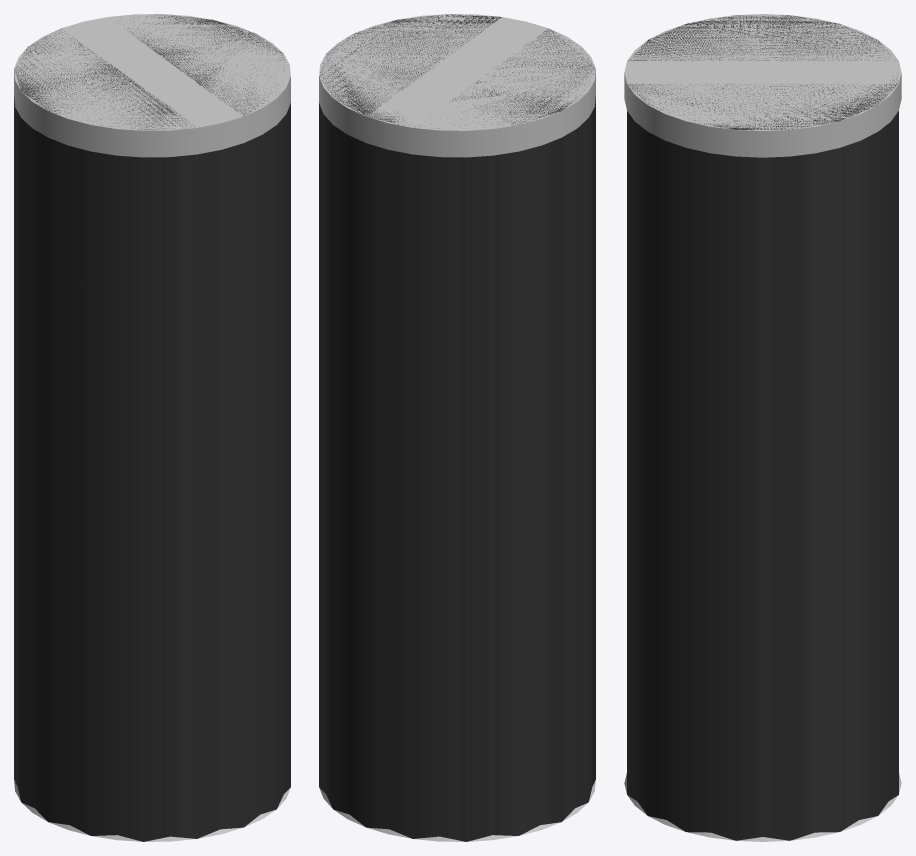
The model's file is LFT_S1b_Stage1.FBX.
The picture shows the model from 3 angles, left to right: view 1: azimuth 30°, elevation 25°; view 2: azimuth 150°, elevation 25°; view 3: azimuth 270°, elevation 25°; orthographic projection.
Parts seen in each view (by area): view 1: LFT_S1B_Stage1_Col, LFT_S1B_Stage1; view 2: LFT_S1B_Stage1_Col, LFT_S1B_Stage1; view 3: LFT_S1B_Stage1_Col, LFT_S1B_Stage1.
Part boxes in pixels (x1,y1,x2,y2): LFT_S1B_Stage1_Col: (14, 14, 290, 841); LFT_S1B_Stage1: (14, 14, 290, 841); LFT_S1B_Stage1_Col: (319, 14, 595, 841); LFT_S1B_Stage1: (319, 14, 595, 841); LFT_S1B_Stage1_Col: (627, 15, 898, 840); LFT_S1B_Stage1: (624, 14, 901, 841).
Size of the model in its own units: 375 by 1061 by 375.
